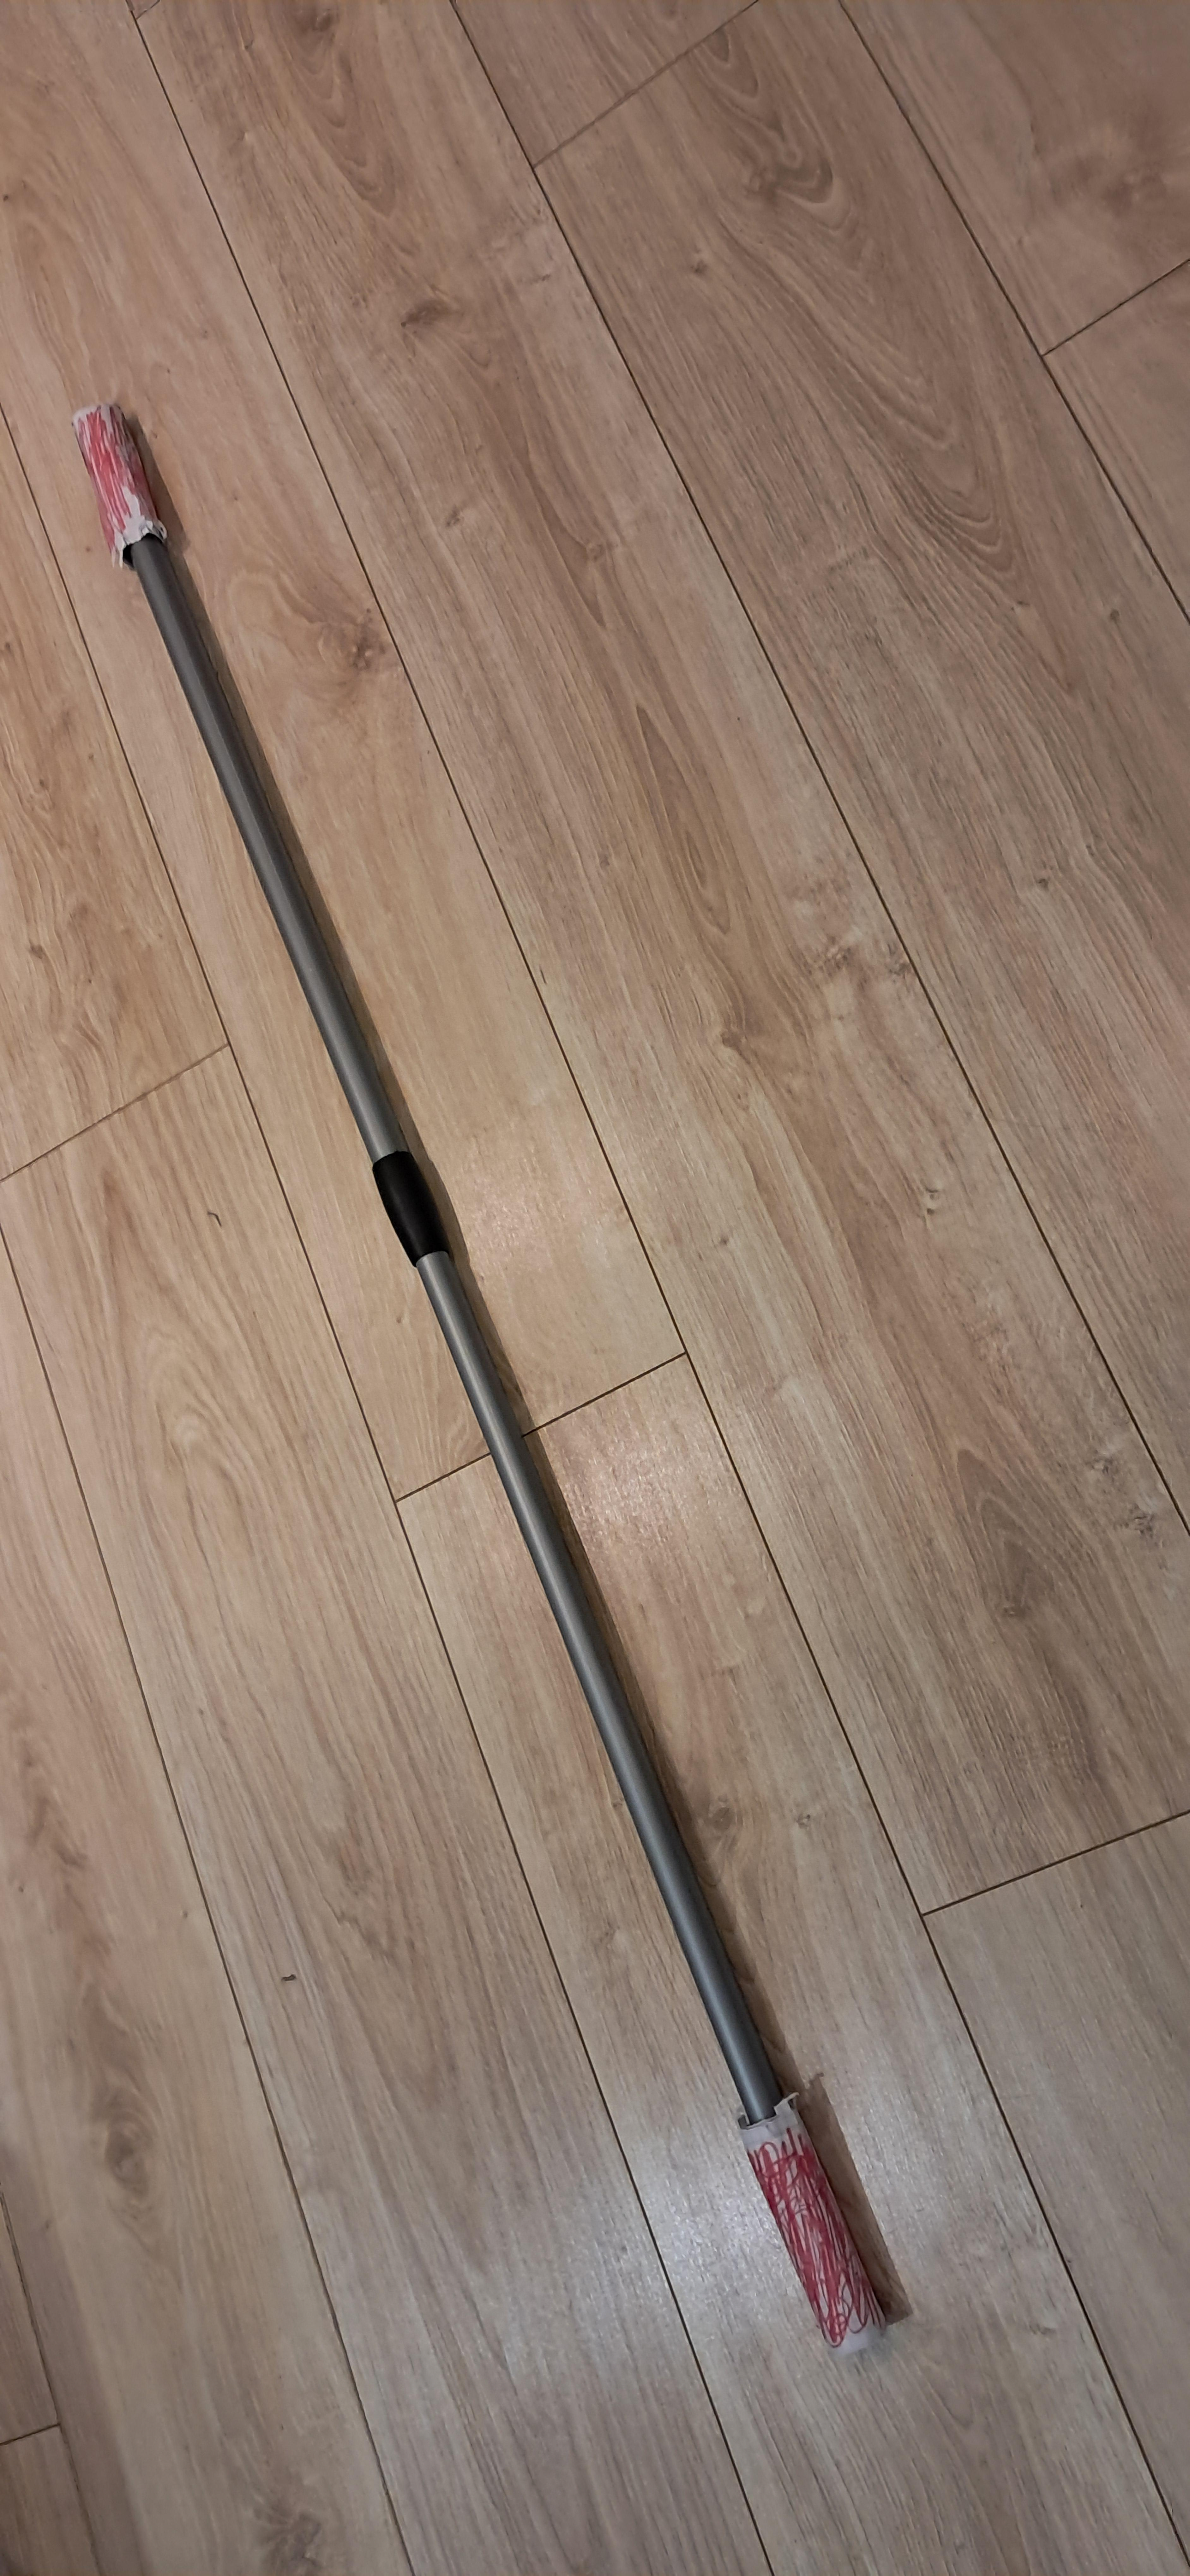broom-handle: (74, 404, 883, 2351)
